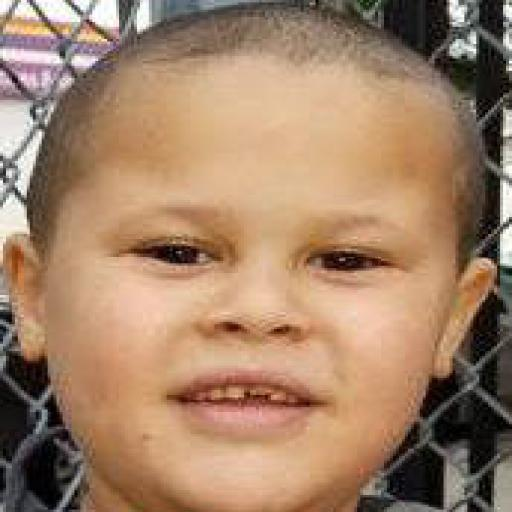Autism: (12, 11, 497, 511)
